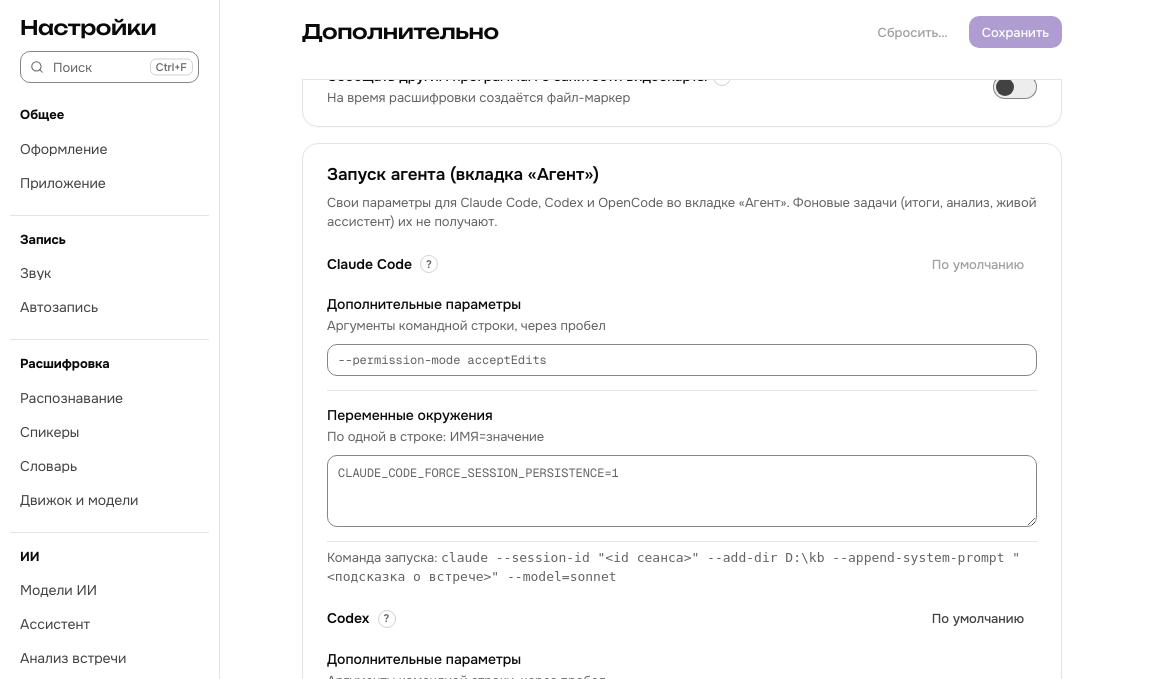
Test: незакрытая кавычка и негодная переменная — ошибка на месте, «Сохранить» недоступно
(page scrolled)
Step 1. Click the 1st field labelled "Дополнительные параметры" → coordinates (682, 360), box x1=327 y1=344 x2=1037 y2=376
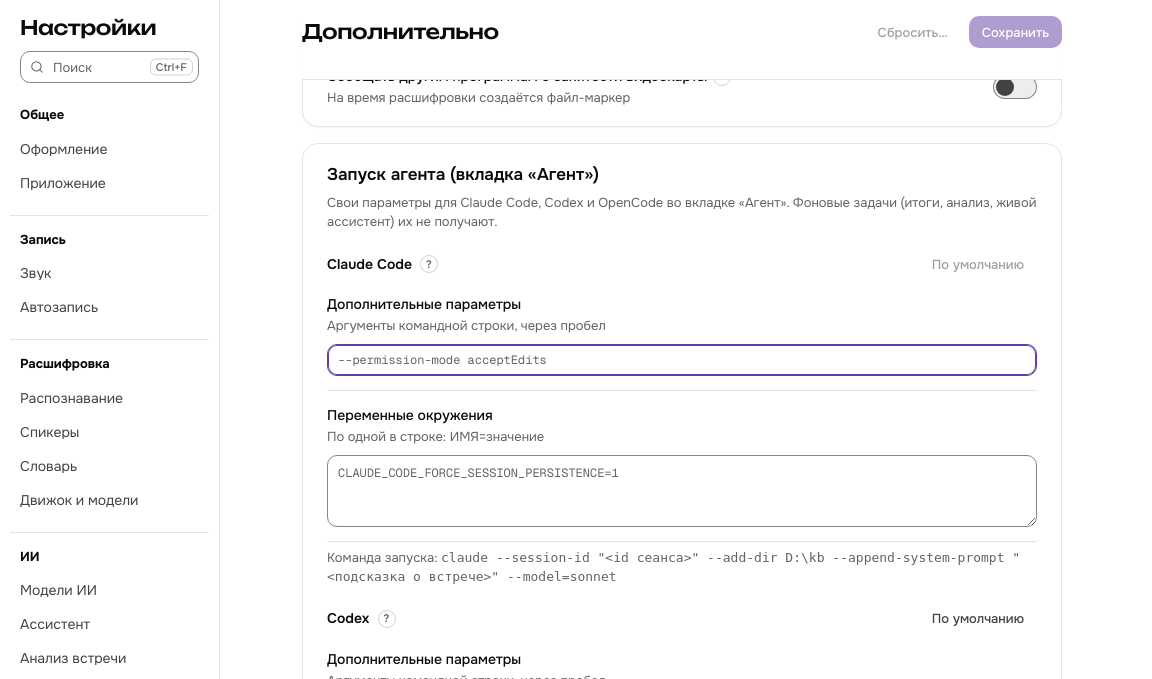
Step 2. Type keys "--add-dir \"D:\\Docs"
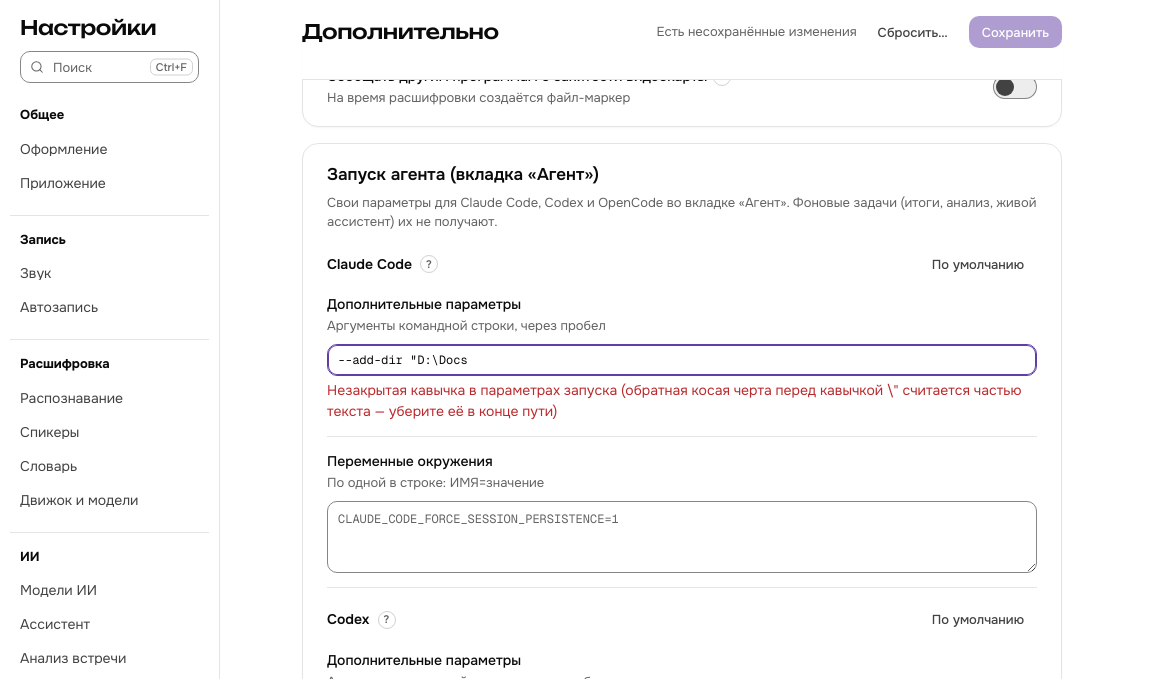
Check: the button "Сохранить" is disabled, box x1=969 y1=16 x2=1062 y2=48
Check: the text "Незакрытая кавычка в параметрах запуска" is shown, box x1=327 y1=381 x2=1021 y2=420
Step 3. Type "\"" into the 1st field labelled "Дополнительные параметры" → coordinates (682, 360), box x1=327 y1=344 x2=1037 y2=376
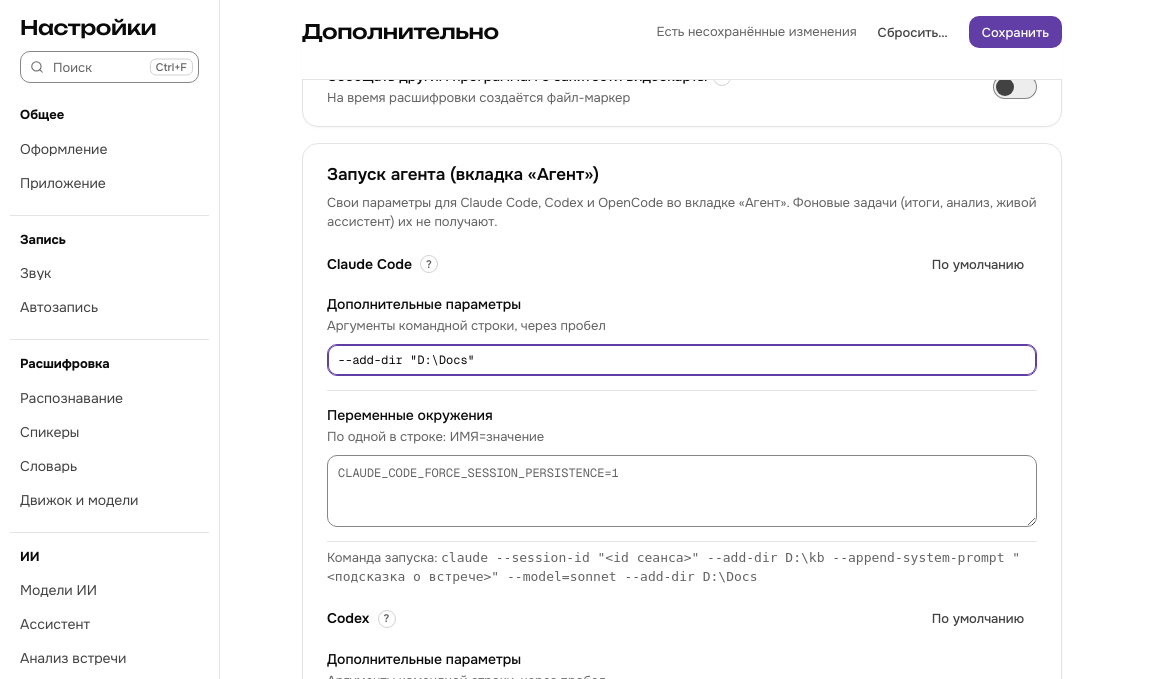
Check: the text "Незакрытая кавычка" is gone
Check: the button "Сохранить" is enabled, box x1=969 y1=16 x2=1062 y2=48
Step 4. Type "1BAD=x" into the text box labelled "Переменные окружения" → coordinates (682, 491), box x1=327 y1=455 x2=1037 y2=527
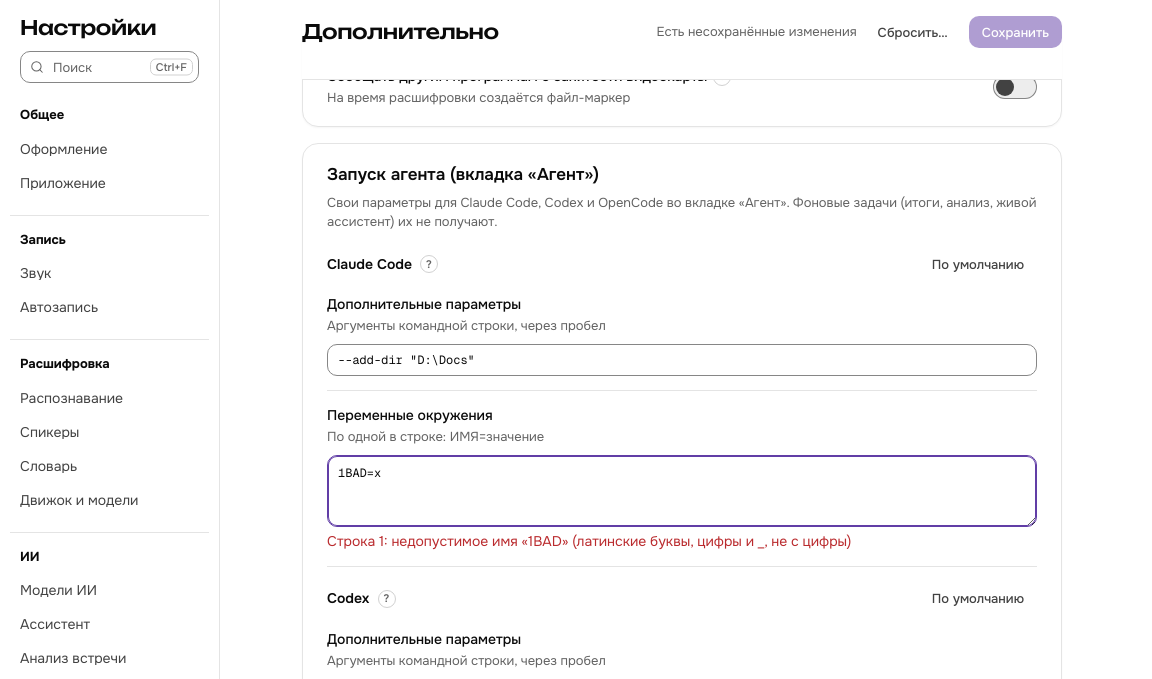
Check: the text "Строка 1: недопустимое имя «1BAD»" is shown, box x1=327 y1=532 x2=851 y2=550
Check: the button "Сохранить" is disabled, box x1=969 y1=16 x2=1062 y2=48
